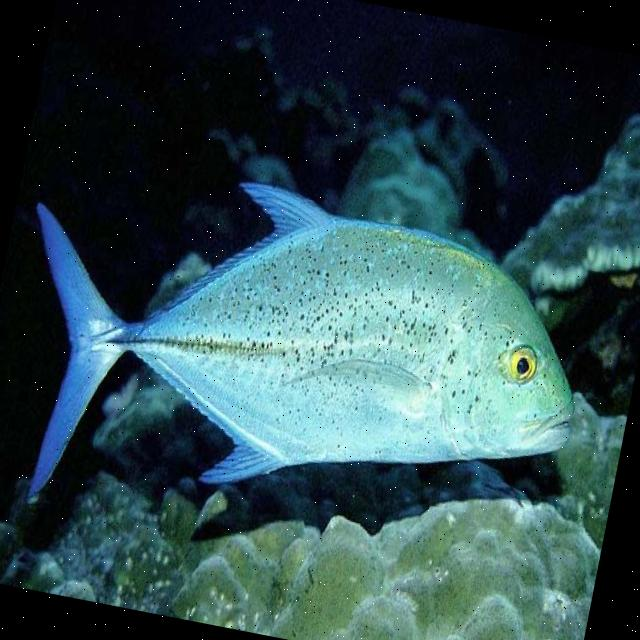ikan: (0, 137, 609, 602)
